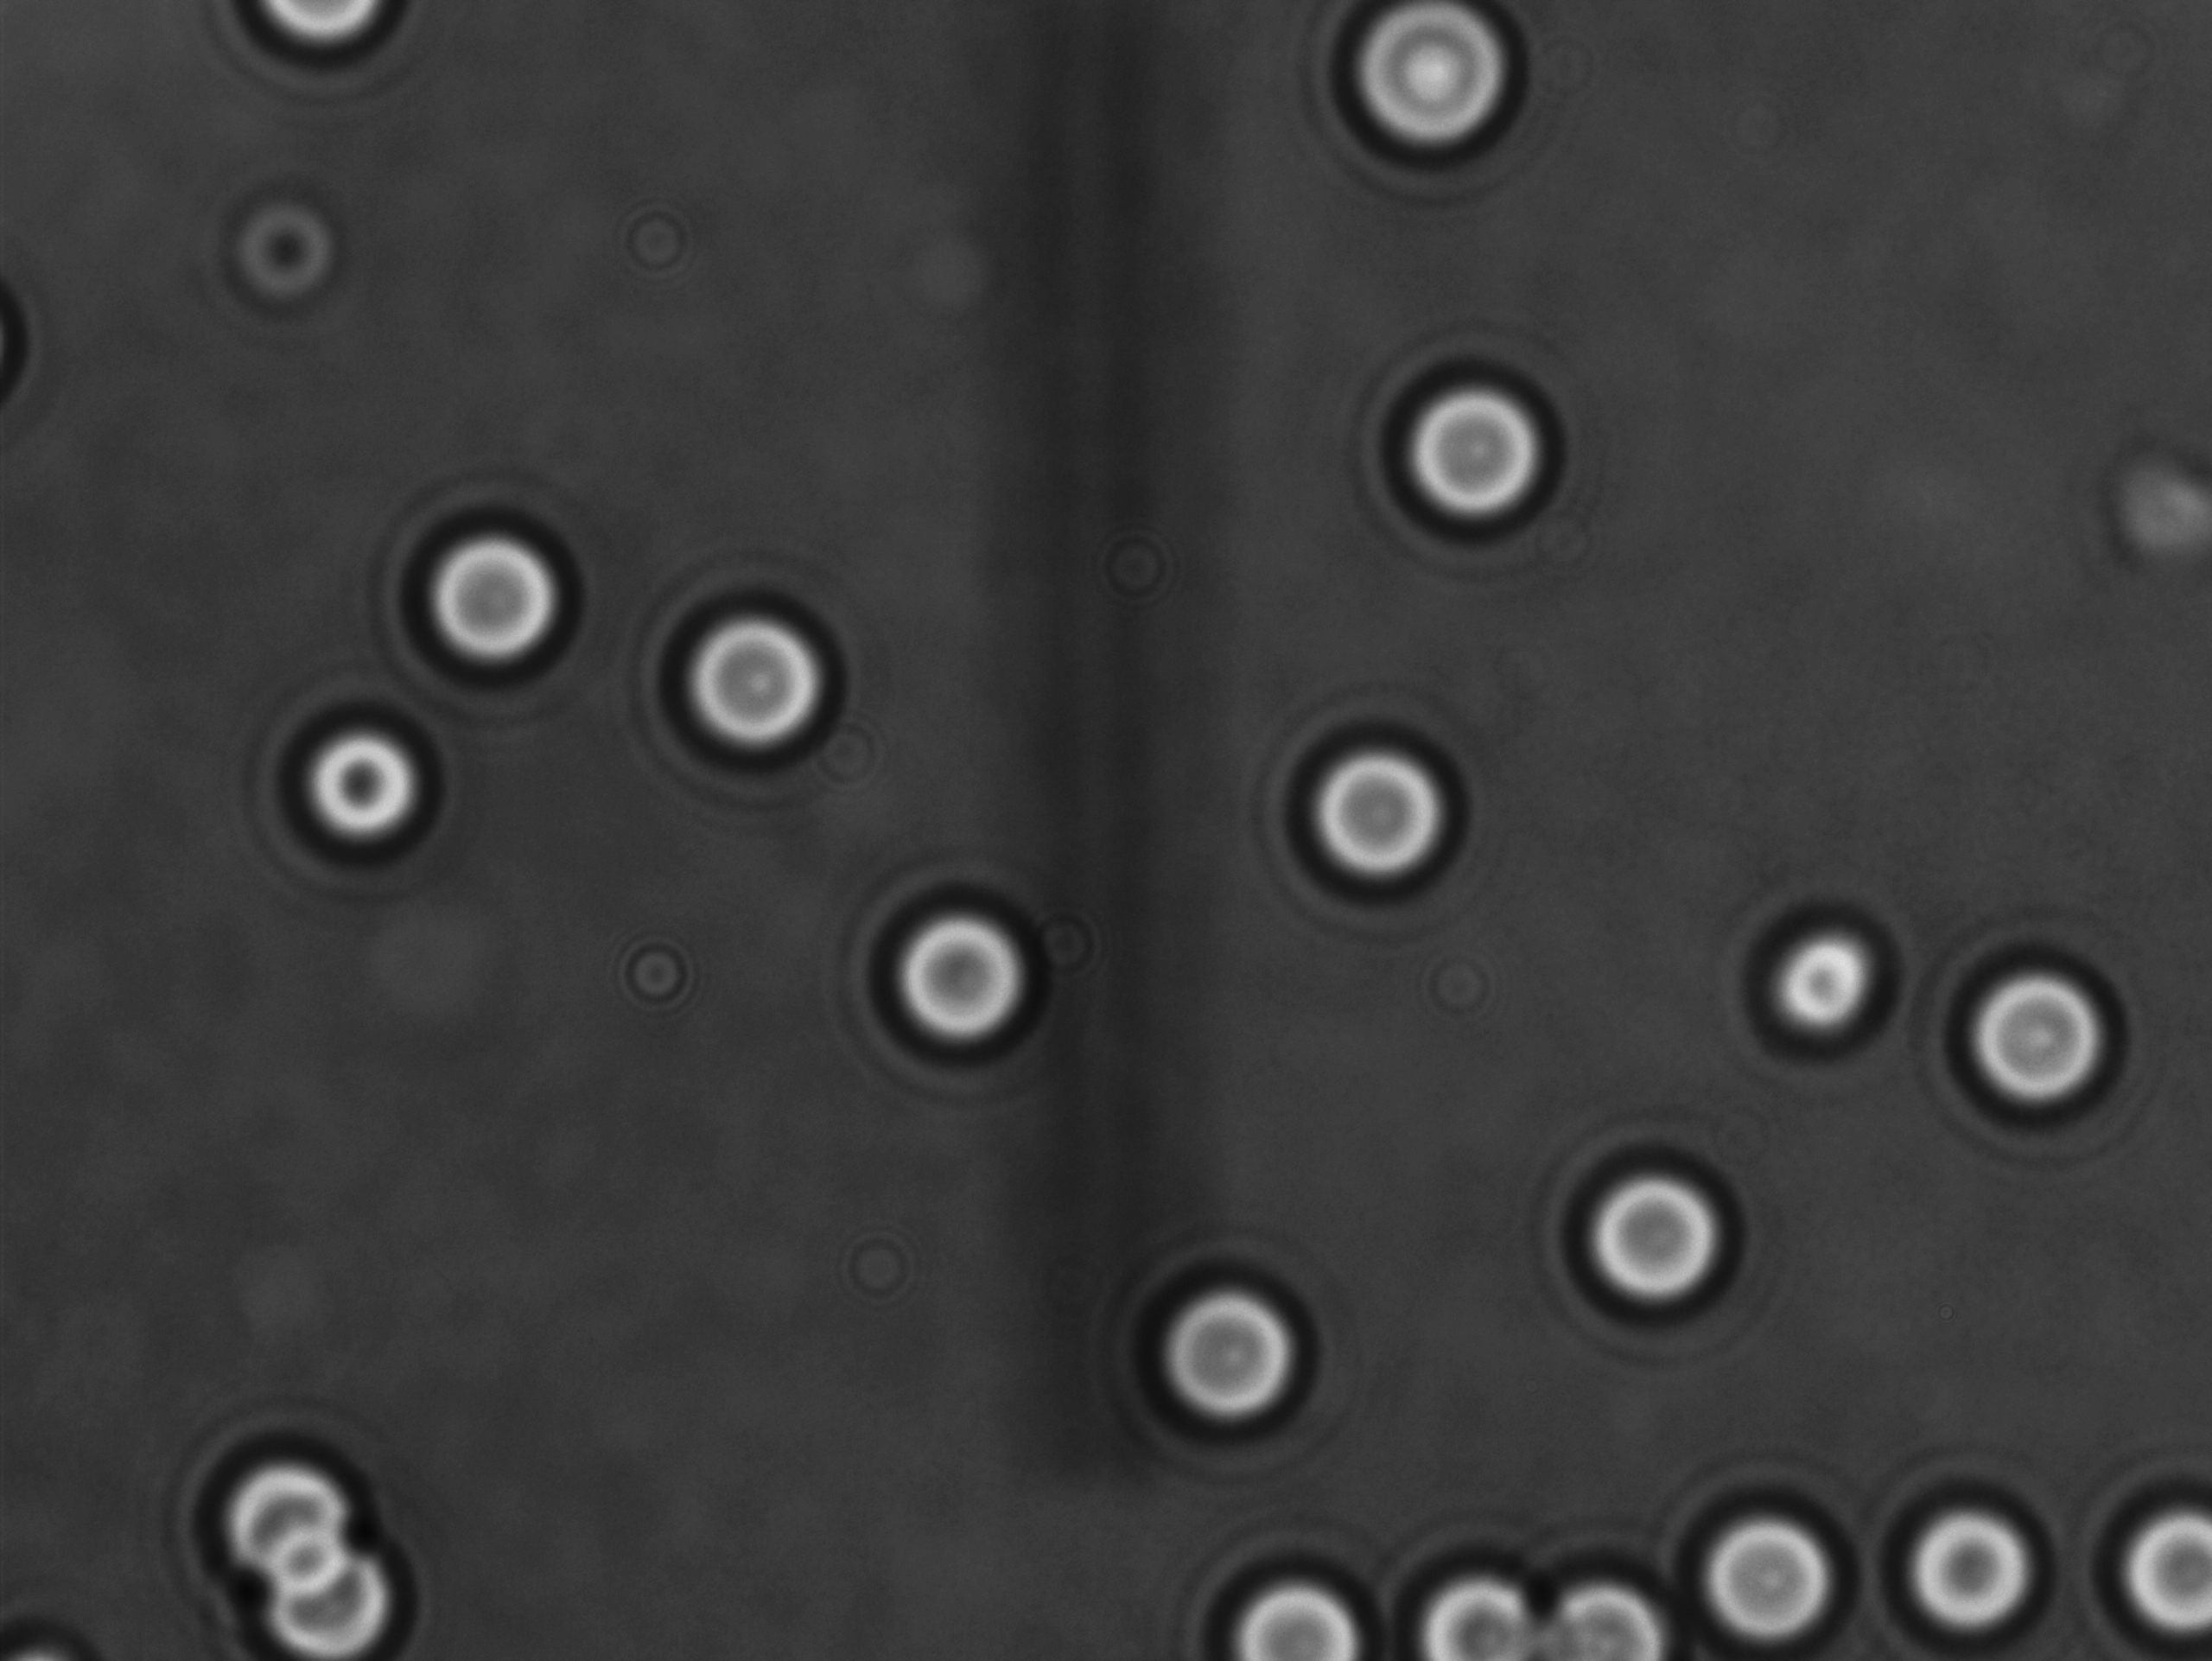depth:60: (1266, 708, 1469, 921), (855, 864, 1057, 1075), (396, 475, 605, 677), (1935, 946, 2144, 1148), (1858, 1466, 2074, 1661), (1371, 349, 1570, 550), (652, 579, 850, 782), (1123, 1256, 1328, 1452), (1554, 1150, 1753, 1345), (1676, 1478, 1858, 1661), (1198, 1548, 1397, 1661), (2092, 1480, 2212, 1661)
